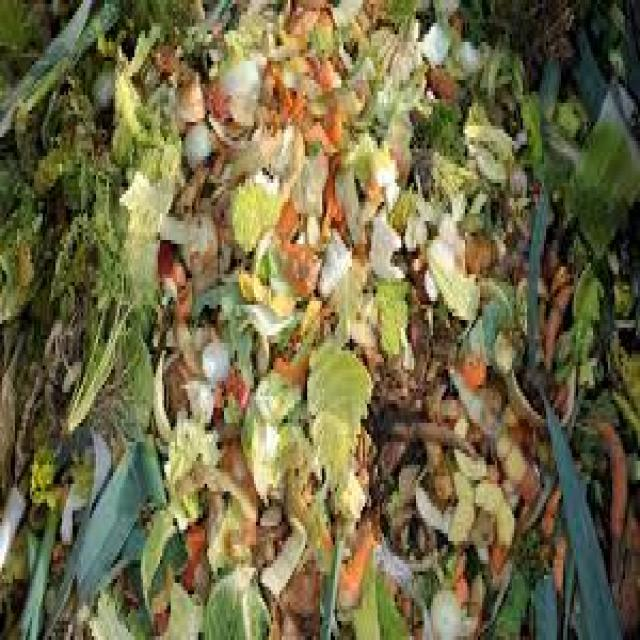Organik: (1, 0, 640, 639), (15, 68, 161, 486), (172, 46, 321, 195), (296, 294, 390, 482)
